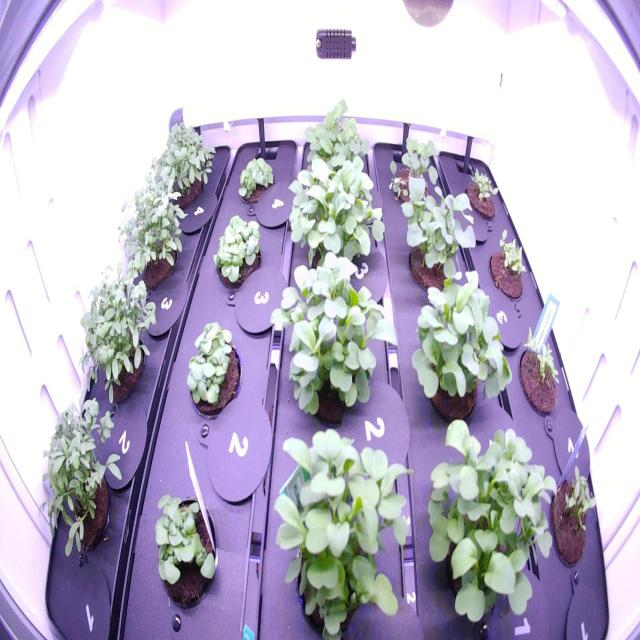germination: (544, 447, 603, 582), (512, 314, 566, 431), (485, 224, 531, 312), (457, 161, 504, 227)
